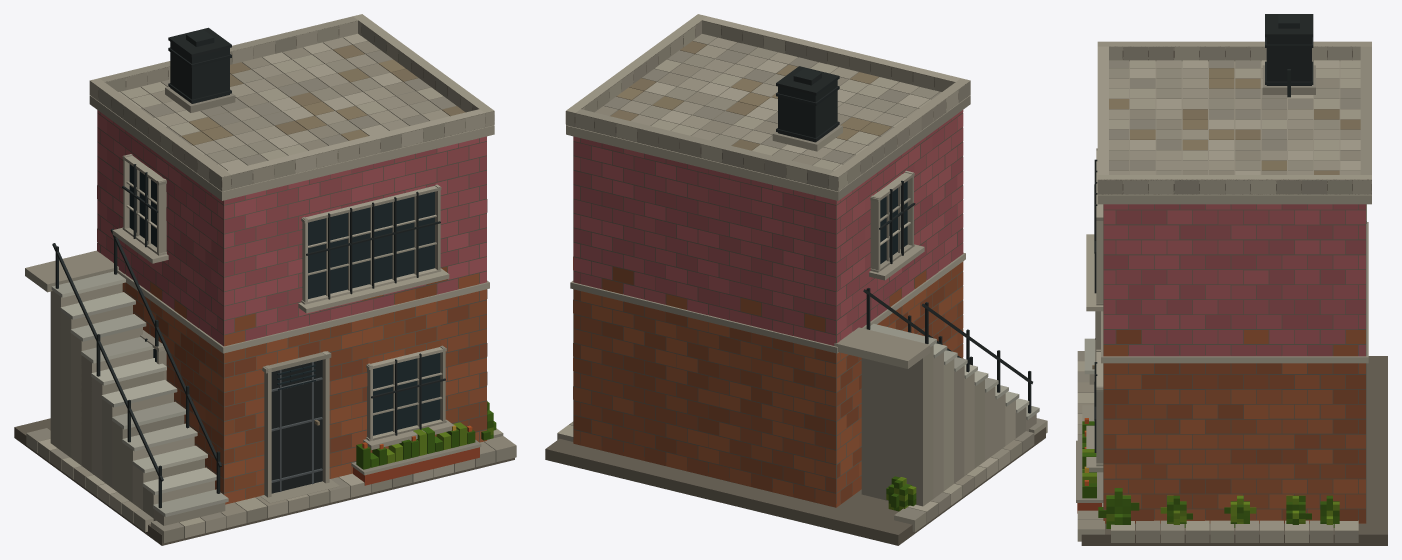
File: SM_Mapa_071.fbx
The picture shows the model from 3 angles, left to right: view 1: azimuth 30°, elevation 25°; view 2: azimuth 150°, elevation 25°; view 3: azimuth 270°, elevation 25°; orthographic projection. The views are drawn at different scales.
Visible parts, largest first — view 1: SM_Mapa_071; view 2: SM_Mapa_071; view 3: SM_Mapa_071.
Boxes of the visible parts, x1=… form: SM_Mapa_071: x1=14, y1=14, x2=516, y2=545; SM_Mapa_071: x1=545, y1=14, x2=1047, y2=545; SM_Mapa_071: x1=1076, y1=14, x2=1387, y2=545.
Bounding box in the file's own units: 8 × 5.82 × 8.61.
